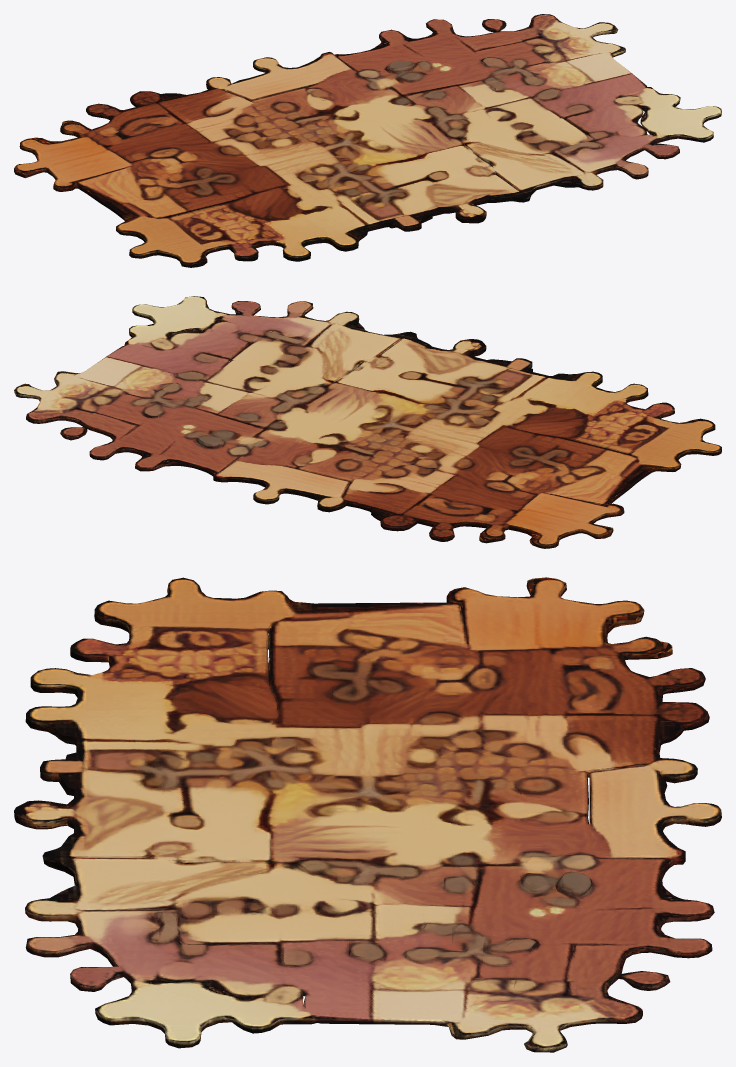
Rendered from wooden-jigsaw-puzzle-vintage.jpeg.glb.
The picture shows the model from 3 angles, top to bottom: view 1: azimuth 30°, elevation 25°; view 2: azimuth 150°, elevation 25°; view 3: azimuth 270°, elevation 25°; orthographic projection. The views are drawn at different scales.
Visible parts, largest first — view 1: world; view 2: world; view 3: world.
Boxes of the visible parts, x1,y1,x2,y2 form: world: (14,14,721,267); world: (14,296,721,548); world: (14,577,721,1052).
Bounding box in the file's own units: 0.9978 × 0.0139 × 0.633.
1 material, 1 textured.
